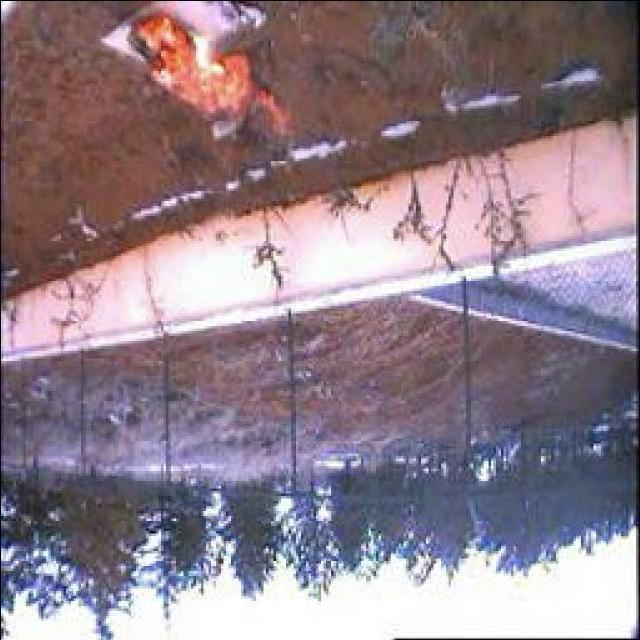Fire: (118, 12, 288, 136)
